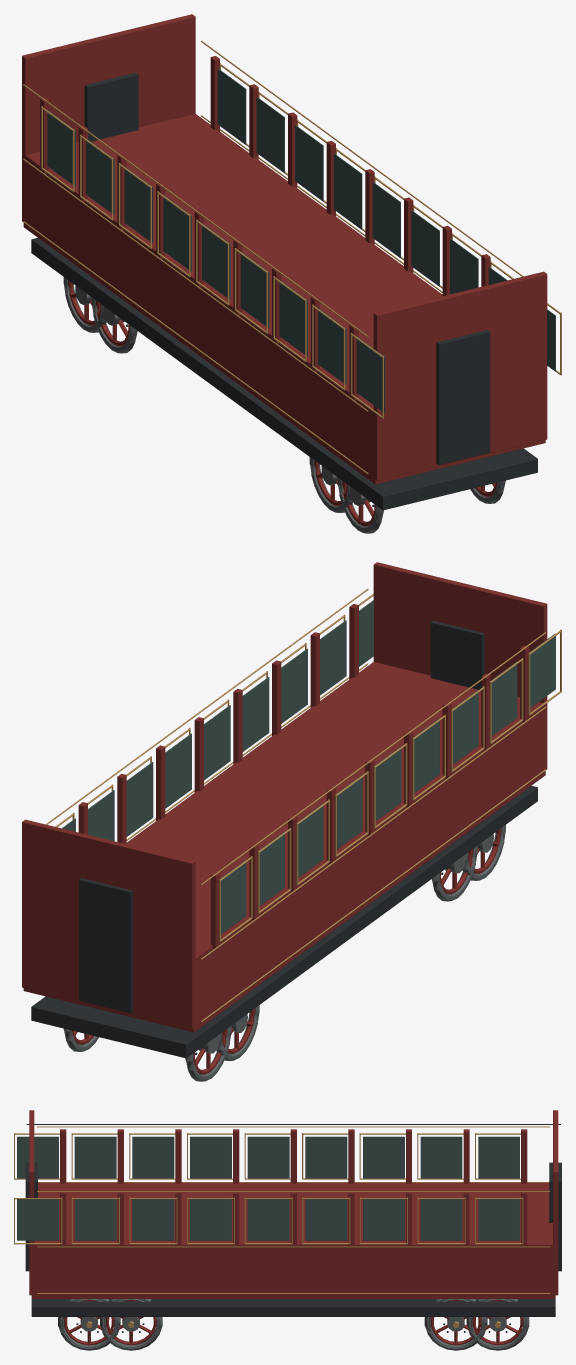
The model's file is carriage-far.glb.
3 views of the same model, one above another, from view 1: azimuth 30°, elevation 25°; view 2: azimuth 150°, elevation 25°; view 3: azimuth 270°, elevation 25° (orthographic). The views are drawn at different scales.
Parts seen in each view (by area): view 1: carriage-far_scarlet, carriage-far_glass, carriage-far_black, carriage-far_brass, carriage-far_steel; view 2: carriage-far_scarlet, carriage-far_glass, carriage-far_black, carriage-far_brass, carriage-far_steel; view 3: carriage-far_scarlet, carriage-far_glass, carriage-far_black, carriage-far_brass, carriage-far_steel.
Part boxes in pixels (box(x1,y1,x2,y2)): carriage-far_scarlet: box(22, 14, 547, 526); carriage-far_glass: box(47, 68, 555, 412); carriage-far_black: box(31, 72, 537, 510); carriage-far_brass: box(23, 40, 561, 474); carriage-far_steel: box(63, 277, 505, 533); carriage-far_scarlet: box(22, 562, 547, 1074); carriage-far_glass: box(62, 600, 555, 934); carriage-far_black: box(31, 620, 537, 1058); carriage-far_brass: box(46, 588, 561, 1022); carriage-far_steel: box(63, 825, 505, 1081); carriage-far_scarlet: box(29, 1110, 558, 1345); carriage-far_glass: box(17, 1136, 519, 1240); carriage-far_black: box(25, 1124, 561, 1336); carriage-far_brass: box(14, 1126, 550, 1328); carriage-far_steel: box(58, 1299, 529, 1350).
Bounding box in the file's own units: 3 × 4.02 × 10.46.
